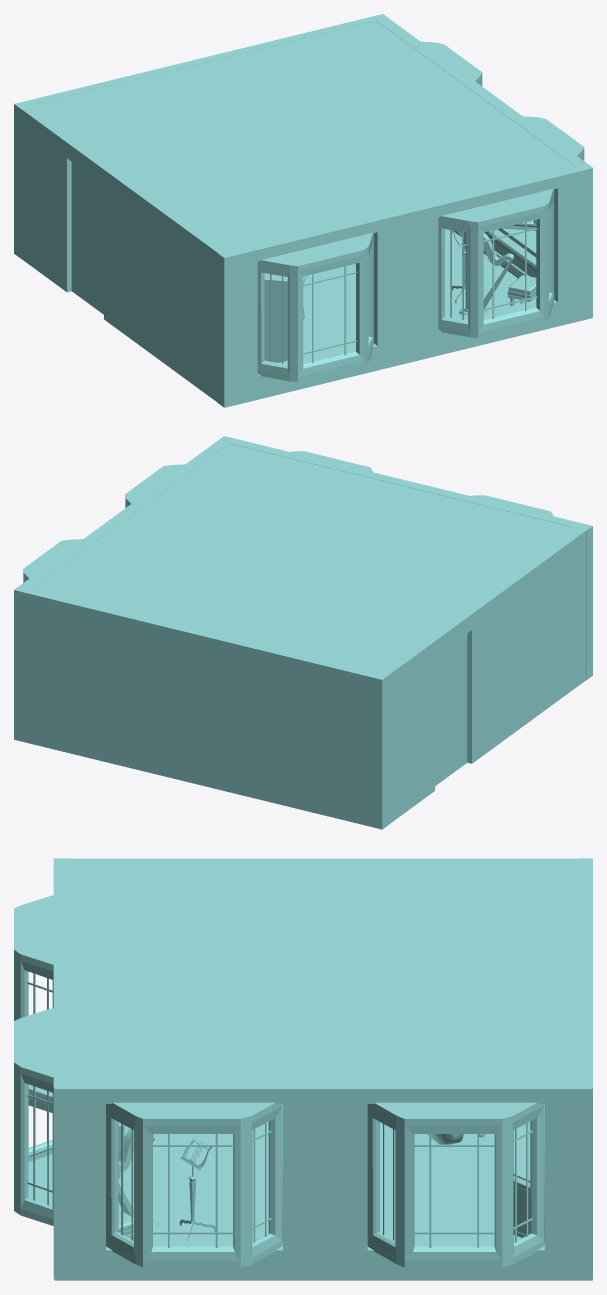
Rendered from musicRoom_full.fbx.
The picture shows the model from 3 angles, top to bottom: view 1: azimuth 30°, elevation 25°; view 2: azimuth 150°, elevation 25°; view 3: azimuth 270°, elevation 25°; orthographic projection. The views are drawn at different scales.
Visible parts, largest first — view 1: ceiling, wall04, wall01, window (×4), floor, polySurface19, wall02, wall03, polySurface22, harp, frame02, harp_stool; view 2: ceiling, wall02, wall01, polySurface19, wall04, wall03, window (×2); view 3: ceiling, wall03, window (×4), floor, wall01, wall04, wall02, music_sheet_cabinet, music_stand, harp.
Boxes of the visible parts, x1,y1,x2,y2 form: ceiling: (32,21,574,250); wall04: (218,164,591,407); wall01: (15,101,235,402); window (×4): (257,41,584,382); floor: (303,229,536,356); polySurface19: (71,162,103,314); wall02: (14,14,385,257); wall03: (372,14,592,317); polySurface22: (264,282,287,362); harp: (459,232,514,315); frame02: (484,229,536,274); harp_stool: (507,275,536,305); ceiling: (31,443,573,673); wall02: (15,586,387,829); wall01: (371,523,591,825); polySurface19: (435,633,467,785); wall04: (220,436,592,680); wall03: (14,436,234,739); window (×2): (23,464,184,582); ceiling: (70,866,579,1081); wall03: (55,1081,592,1280); window (×4): (14,895,544,1267); floor: (118,1122,530,1240); wall01: (55,858,592,865); wall04: (53,858,69,1279); wall02: (579,858,592,1279); music_sheet_cabinet: (513,1164,530,1237); music_stand: (179,1134,215,1240); harp: (118,1128,158,1228).
Size of the model in its own units: 274 by 99.55 by 272.
